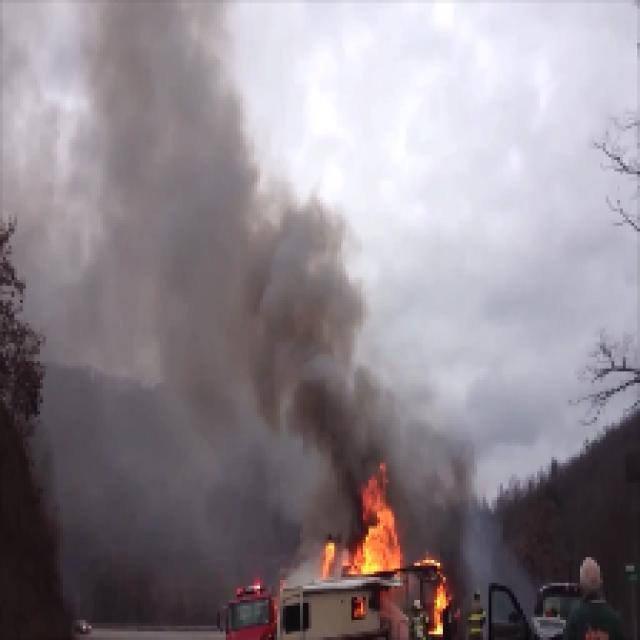fire: (358, 482, 404, 583), (414, 556, 456, 639)
smoke: (47, 4, 239, 512), (246, 176, 354, 484), (410, 411, 472, 548)
